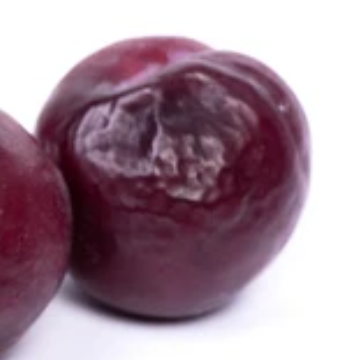plum_C: (34, 36, 313, 320)
